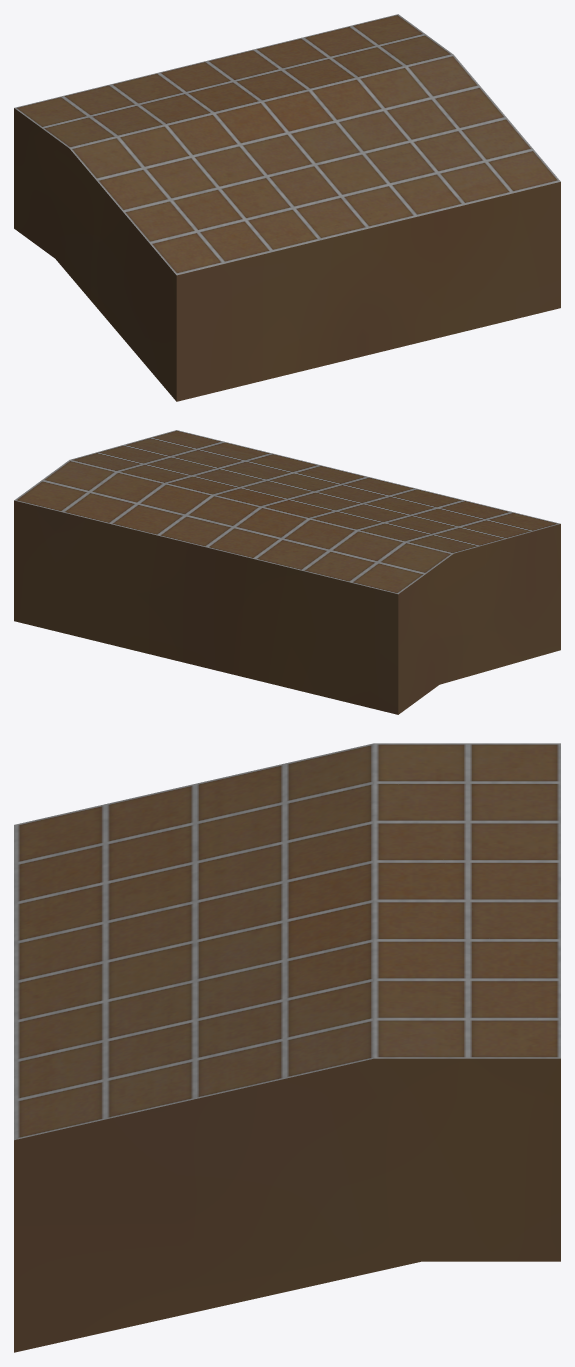
The model's file is set_floor_02_slope_start.fbx.
3 views of the same model, one above another, from view 1: azimuth 30°, elevation 25°; view 2: azimuth 150°, elevation 25°; view 3: azimuth 270°, elevation 25° (orthographic). The views are drawn at different scales.
Visible parts, largest first — view 1: set_floor_02_slope_start; view 2: set_floor_02_slope_start; view 3: set_floor_02_slope_start.
Boxes of the visible parts, x1,y1,x2,y2 form: set_floor_02_slope_start: [14, 14, 560, 401]; set_floor_02_slope_start: [14, 430, 560, 714]; set_floor_02_slope_start: [14, 743, 560, 1352].
Size of the model in its own units: 200 by 86.98 by 147.
